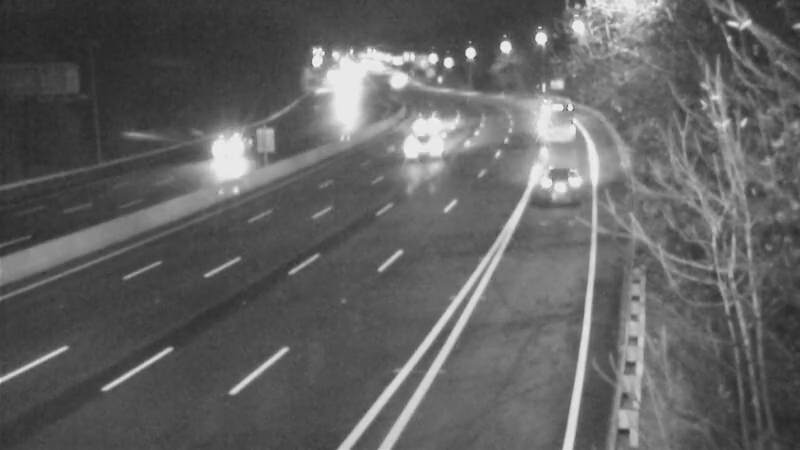vehicle: (518, 142, 598, 222), (529, 92, 579, 142), (404, 93, 454, 143), (401, 121, 451, 171), (214, 123, 264, 173)
